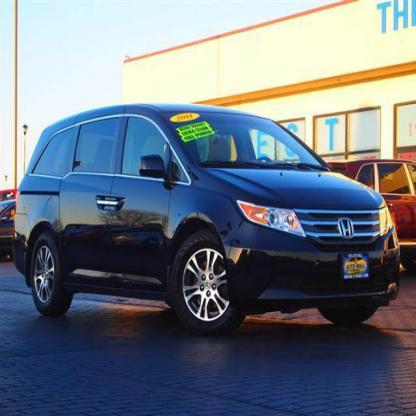Vehicle: (15, 101, 405, 340)
